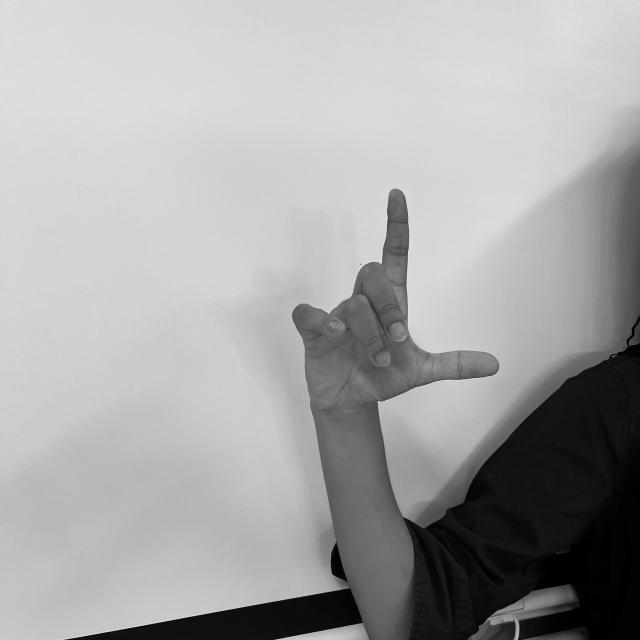Letra L: (286, 182, 503, 415)
